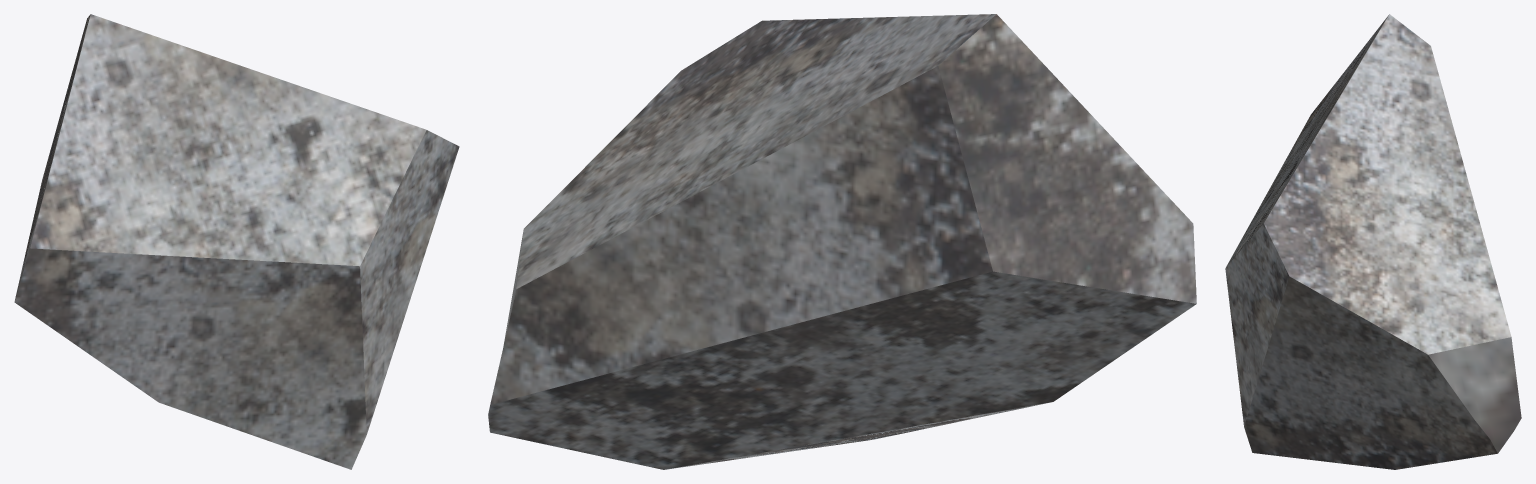
File: Asteroid_Large_001_02_007_03_002.fbx
3 views of the same model, side by side, from view 1: azimuth 30°, elevation 25°; view 2: azimuth 150°, elevation 25°; view 3: azimuth 270°, elevation 25° (orthographic). The views are drawn at different scales.
Parts seen in each view (by area): view 1: Asteroid_Large_001_02_007_03_002; view 2: Asteroid_Large_001_02_007_03_002; view 3: Asteroid_Large_001_02_007_03_002.
Boxes of the visible parts, left/top/right/bottom form: Asteroid_Large_001_02_007_03_002: left=14, top=14, right=459, bottom=469; Asteroid_Large_001_02_007_03_002: left=488, top=14, right=1196, bottom=469; Asteroid_Large_001_02_007_03_002: left=1225, top=14, right=1521, bottom=469.
Size of the model in its own units: 8.59 by 7.72 by 5.66.
